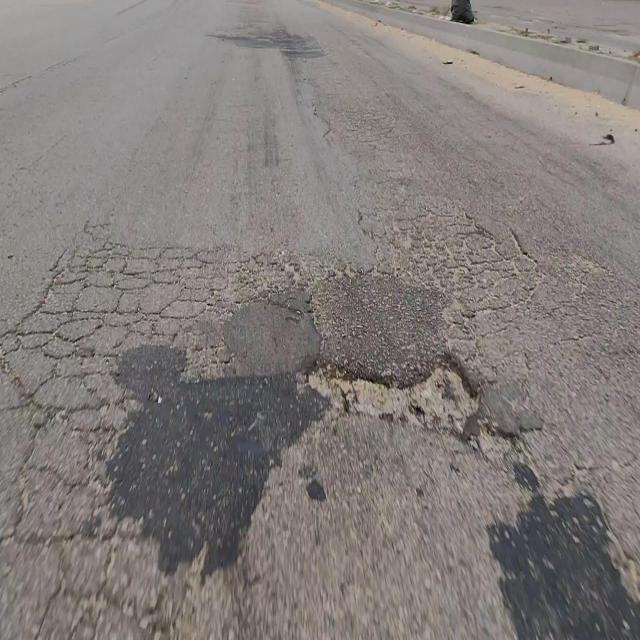Potholes: (301, 344, 483, 440)
